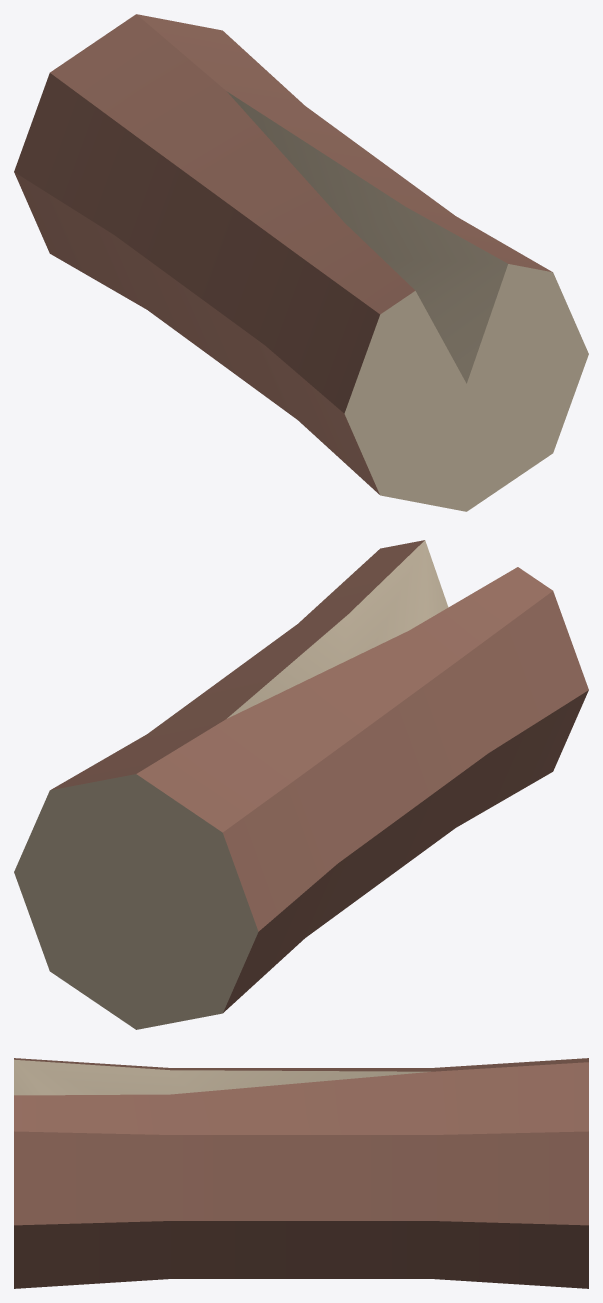
The model's file is SM_Wood_Chopped_Block_02.fbx.
3 renders of one model, top to bottom at view 1: azimuth 30°, elevation 25°; view 2: azimuth 150°, elevation 25°; view 3: azimuth 270°, elevation 25°, orthographic. The views are drawn at different scales.
Parts seen in each view (by area): view 1: Wood_Chopped_Block_02; view 2: Wood_Chopped_Block_02; view 3: Wood_Chopped_Block_02.
Part boxes in pixels (<box>): Wood_Chopped_Block_02: <box>14,14,588,511</box>; Wood_Chopped_Block_02: <box>14,540,588,1029</box>; Wood_Chopped_Block_02: <box>14,1058,588,1288</box>.
Bounding box in the file's own units: 9.73 × 9.73 × 22.78.
